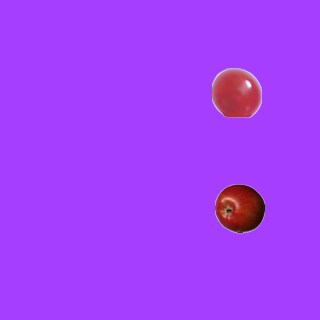Apple Braeburn: (214, 183, 264, 233)
Redcurrant: (211, 67, 261, 117)
